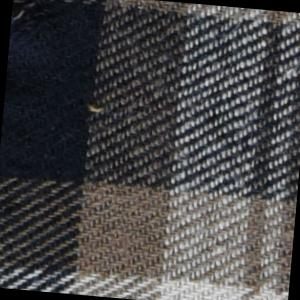Damage: (11, 1, 61, 36)
Stain: (262, 10, 300, 74)
